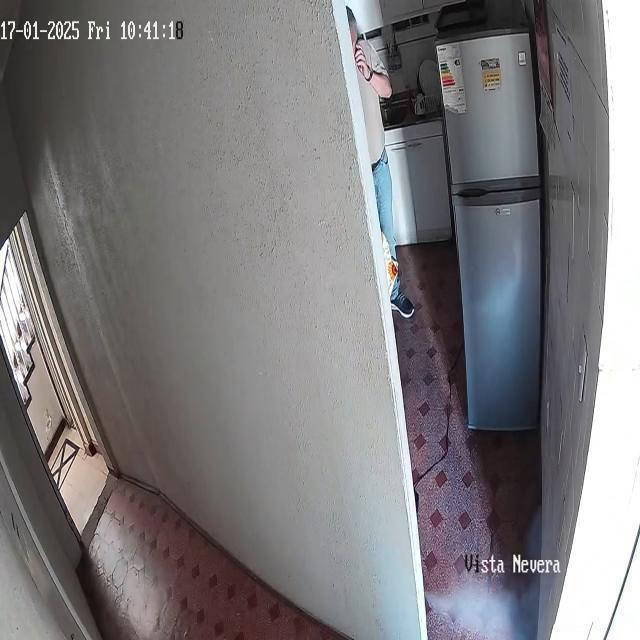fire: (423, 490, 552, 640)
